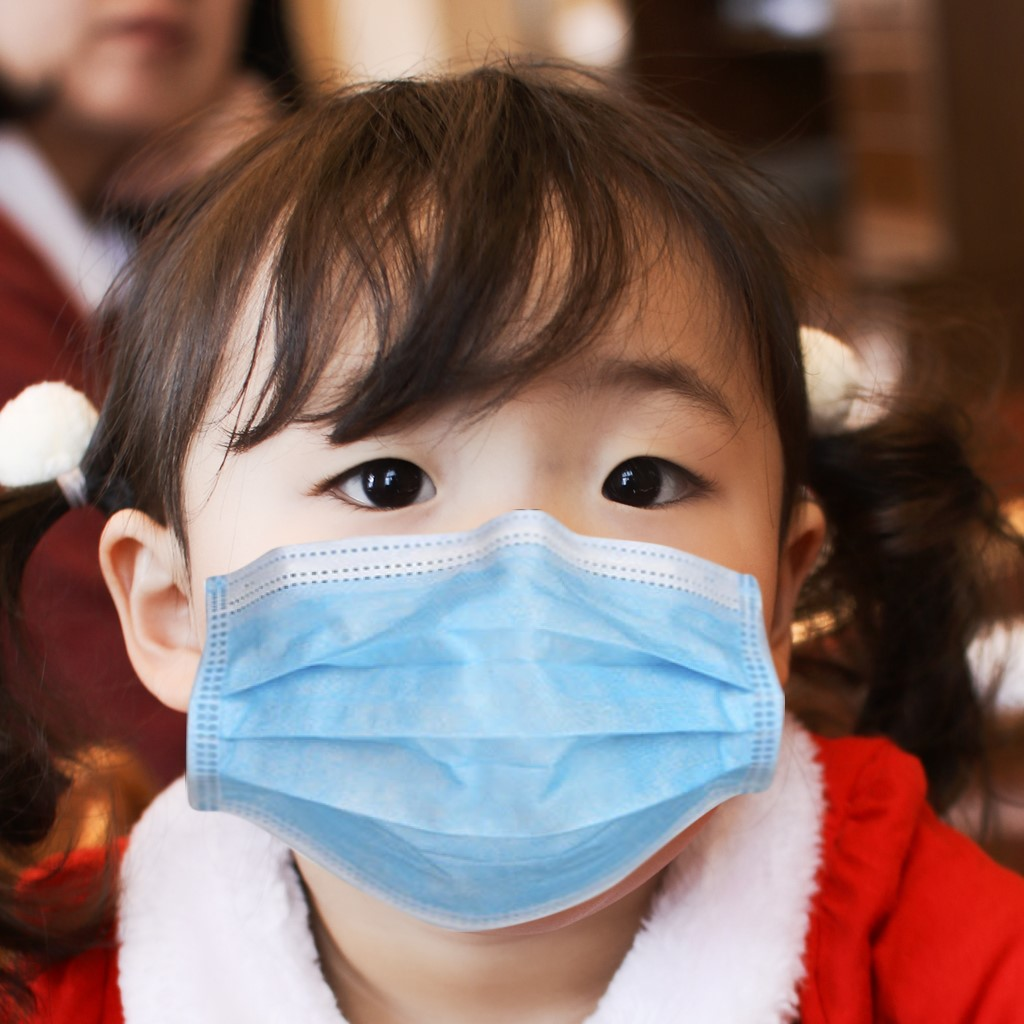con_mascara: (99, 136, 833, 913)
